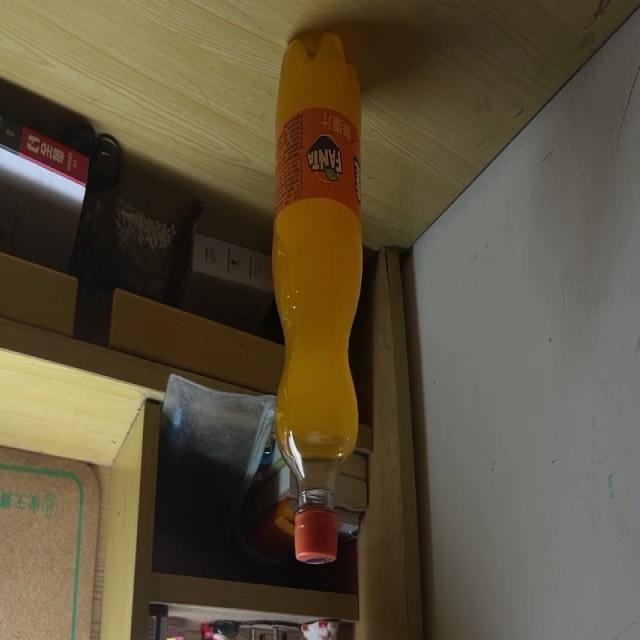Fanta: (271, 30, 362, 563)
